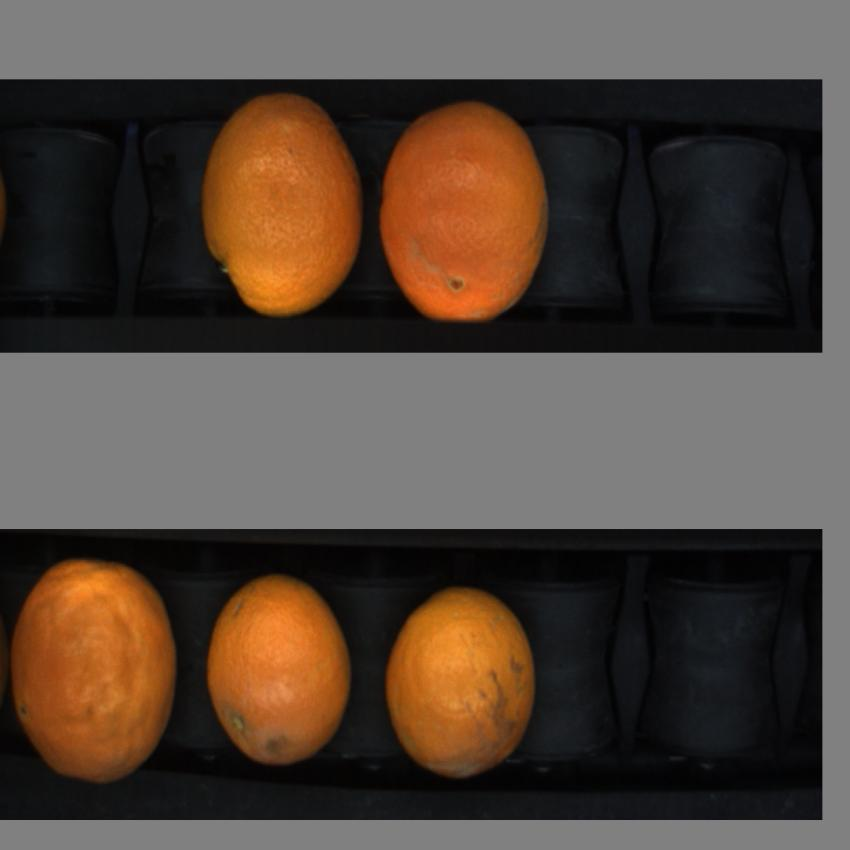Buen estado: (5, 554, 190, 794), (377, 107, 559, 325), (200, 93, 370, 320), (379, 590, 551, 788), (204, 574, 356, 768)
